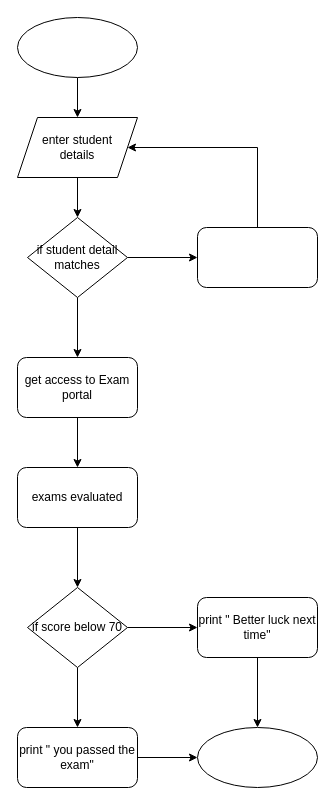
Image size: 335x805. Some labels were removed from this diagram. Each missing label, with the centre of its shape:
Enter valid details: (257,257)
Start: (77,47)
Stop: (257,757)
